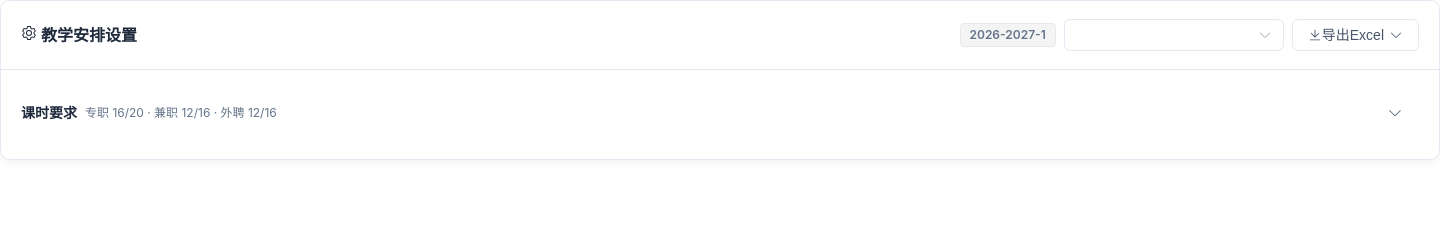
Scenario: HourSettingsCard（课时要求折叠） › 默认收起并展示配置摘要，点击可展开/收起
expect the text "专职 16/20 · 兼职 12/16 · 外聘 12/16" is shown: met, box [85,104,277,120]
What coordinates should you click on to do the following:
click the button with class "hour-toggle"
I would click on:
 (49, 112)
Its box is [13,94,1411,131].
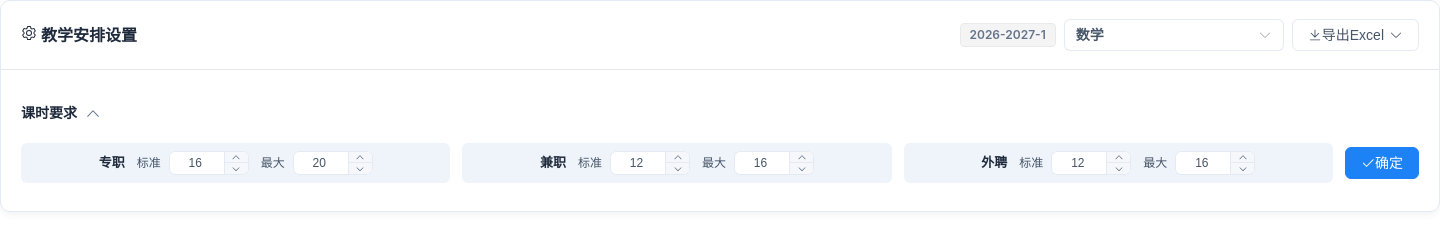
expect the button with class "hour-toggle" is expanded: met
What coordinates should you click on to do the following:
click the button with class "hour-toggle"
I would click on:
 (49, 112)
Its box is [13,94,1411,131].
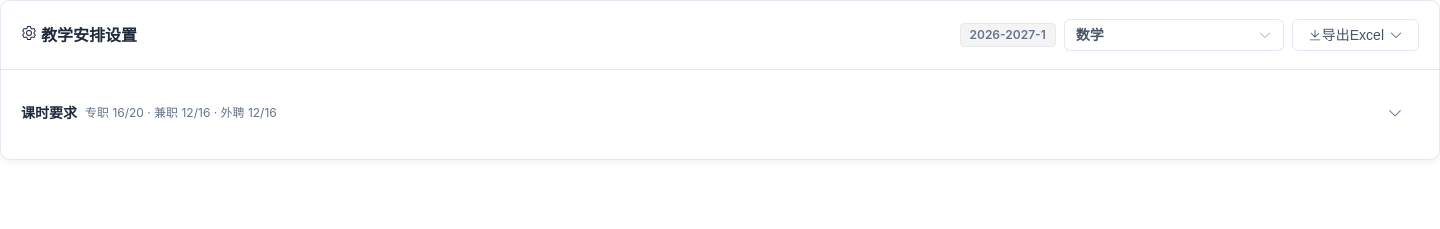
expect the text "专职 16/20 · 兼职 12/16 · 外聘 12/16" is shown: met, box [85,104,277,120]
